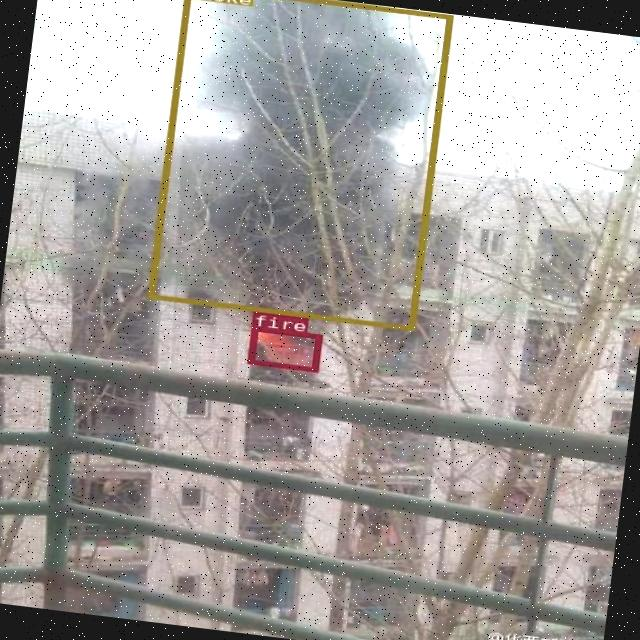fire: (246, 325, 320, 370)
smoke: (145, 0, 451, 329)
